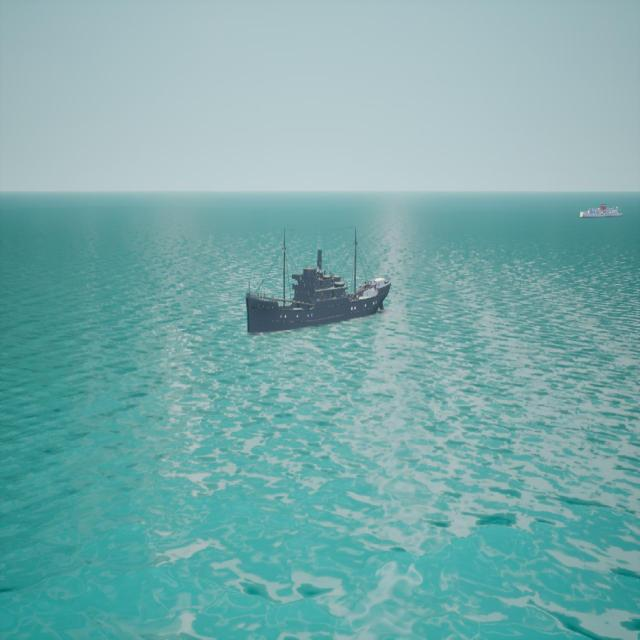fishing ship: (247, 228, 394, 338), (582, 205, 628, 221)
